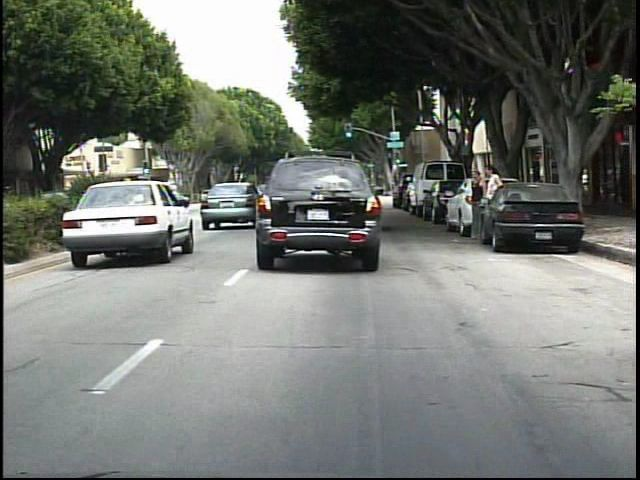person: (483, 161, 507, 240), (466, 169, 489, 245)
